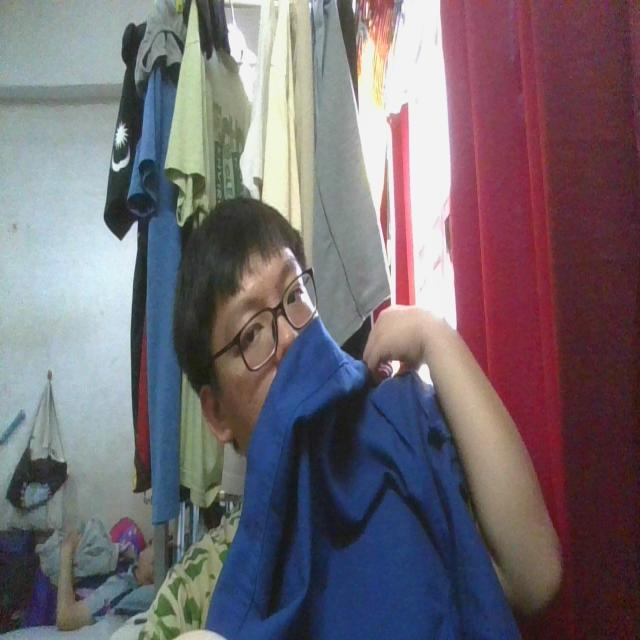person_without_labcoat: (140, 198, 561, 639)
